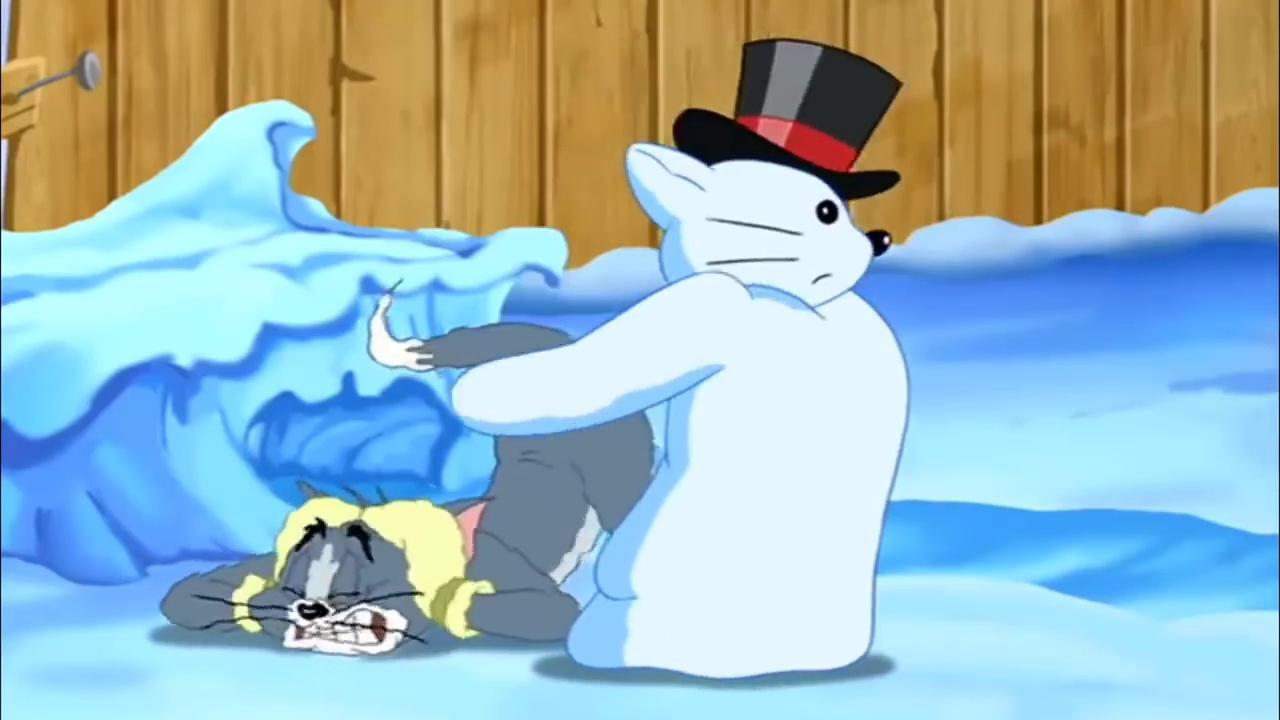face: (272, 514, 413, 656)
